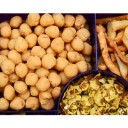bonda: (15, 37, 29, 52), (41, 54, 56, 68), (7, 50, 22, 64), (9, 96, 24, 110), (27, 54, 41, 69), (3, 84, 16, 100), (48, 70, 61, 86), (68, 49, 82, 63), (37, 33, 50, 48), (16, 62, 28, 78), (37, 78, 51, 91), (24, 73, 38, 86), (2, 59, 14, 74), (72, 37, 84, 52), (56, 54, 68, 69), (41, 13, 54, 26), (65, 63, 78, 76), (75, 59, 88, 72), (28, 12, 40, 26), (26, 96, 38, 110), (53, 37, 64, 51), (1, 26, 13, 38), (76, 14, 86, 28), (14, 82, 28, 92), (55, 12, 64, 27), (66, 13, 75, 27), (10, 16, 21, 27)
